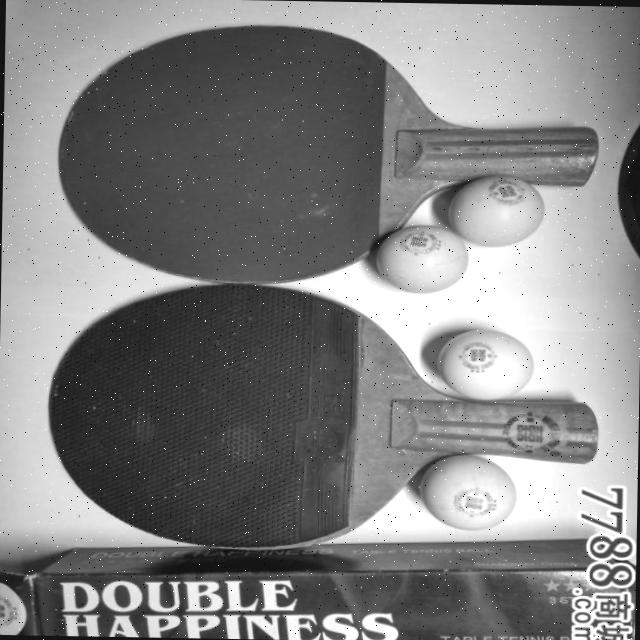ping-pong-ball: (416, 450, 519, 532), (433, 324, 538, 400), (442, 172, 546, 246), (375, 224, 472, 294)
